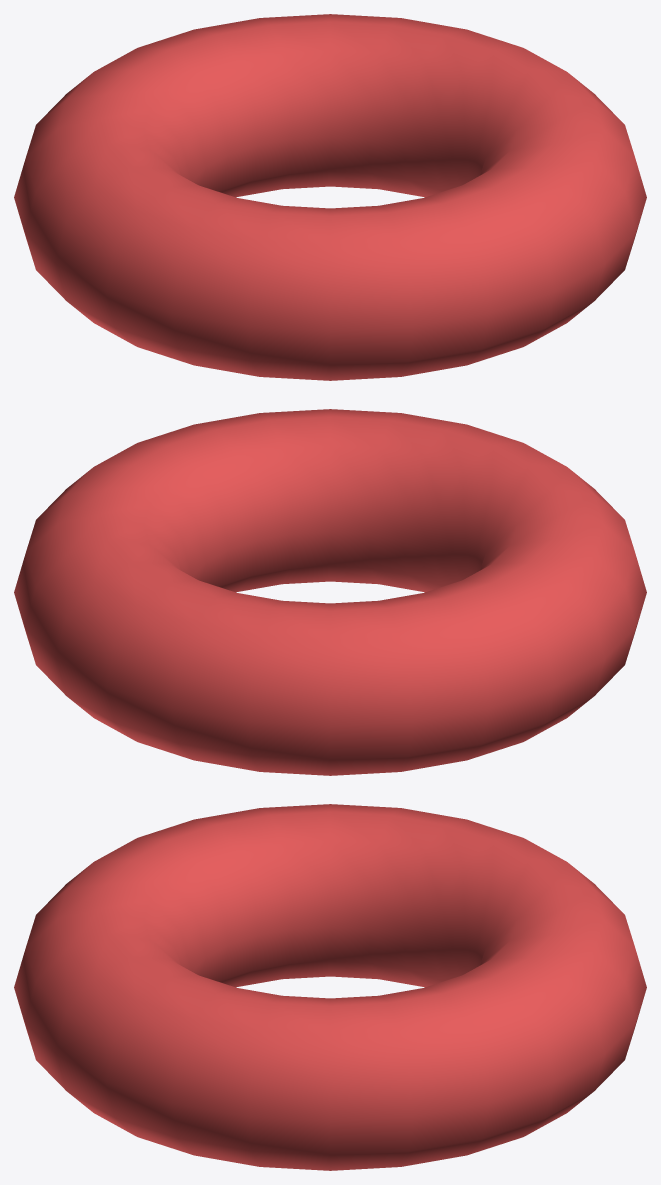
File: donut.obj
The picture shows the model from 3 angles, top to bottom: view 1: azimuth 30°, elevation 25°; view 2: azimuth 150°, elevation 25°; view 3: azimuth 270°, elevation 25°; orthographic projection.
Visible parts, largest first — view 1: Torus001; view 2: Torus001; view 3: Torus001.
Boxes of the visible parts, x1,y1,x2,y2 form: Torus001: [14, 14, 646, 380]; Torus001: [14, 409, 646, 775]; Torus001: [14, 804, 646, 1170].
Size of the model in its own units: 95.26 by 26.05 by 95.26.
